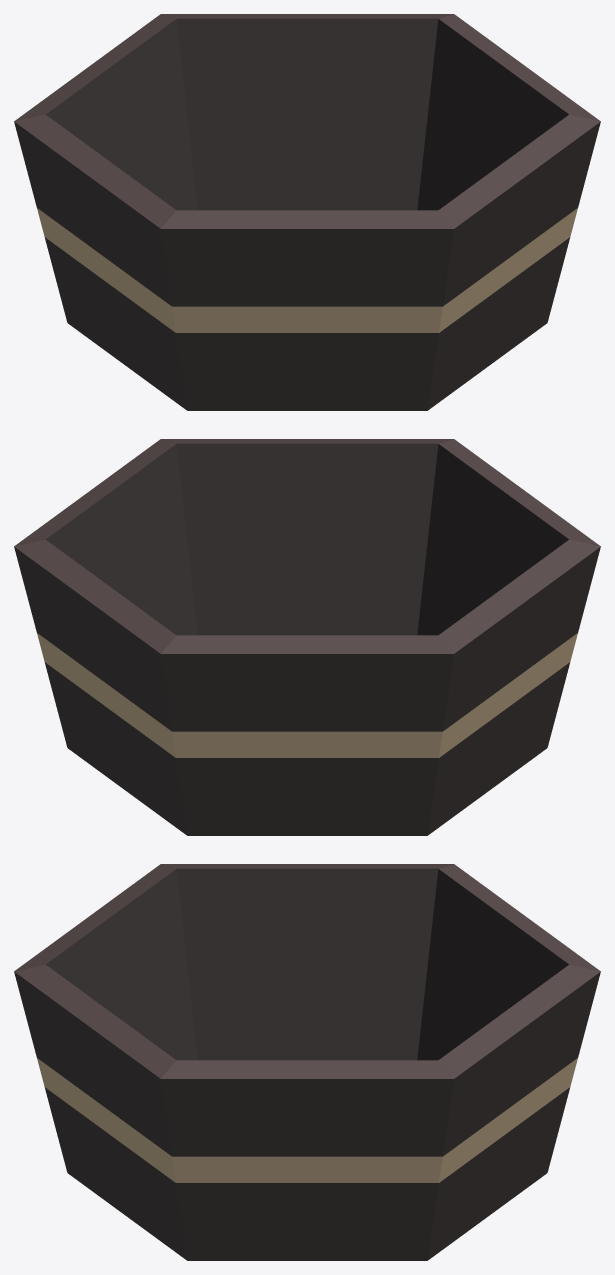
File: TB_D_Prop_BucketBig_C.FBX
3 renders of one model, top to bottom at view 1: azimuth 30°, elevation 25°; view 2: azimuth 150°, elevation 25°; view 3: azimuth 270°, elevation 25°, orthographic.
Visible parts, largest first — view 1: TB_D_Prop_BucketBig_C; view 2: TB_D_Prop_BucketBig_C; view 3: TB_D_Prop_BucketBig_C.
Boxes of the visible parts, box(x1,y1,x2,y2) form: TB_D_Prop_BucketBig_C: box(14, 14, 600, 410); TB_D_Prop_BucketBig_C: box(14, 439, 600, 835); TB_D_Prop_BucketBig_C: box(14, 864, 600, 1260).
Bounding box in the file's own units: 0.9353 × 0.4233 × 1.08.
